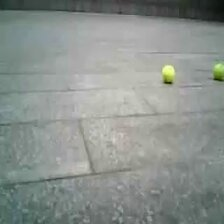tennis: (160, 65, 174, 81), (212, 62, 224, 80)
